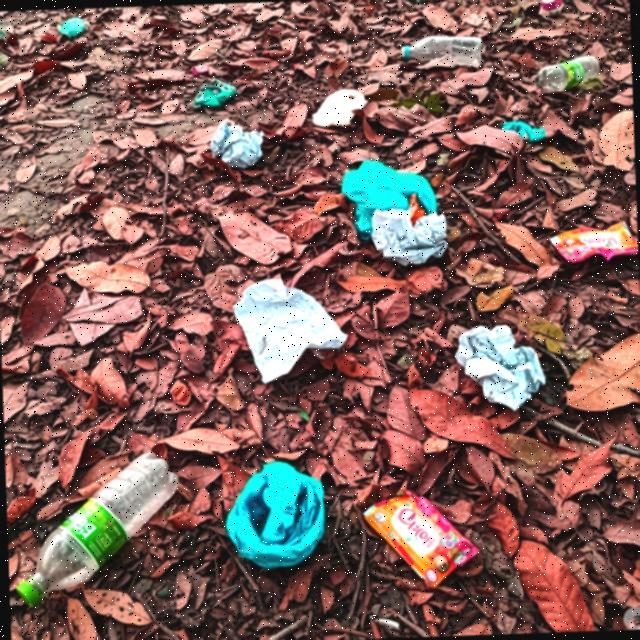paper: (233, 273, 350, 385), (454, 321, 550, 415), (370, 205, 450, 268), (210, 118, 265, 171)
plastic: (12, 447, 182, 610), (399, 31, 485, 70)
